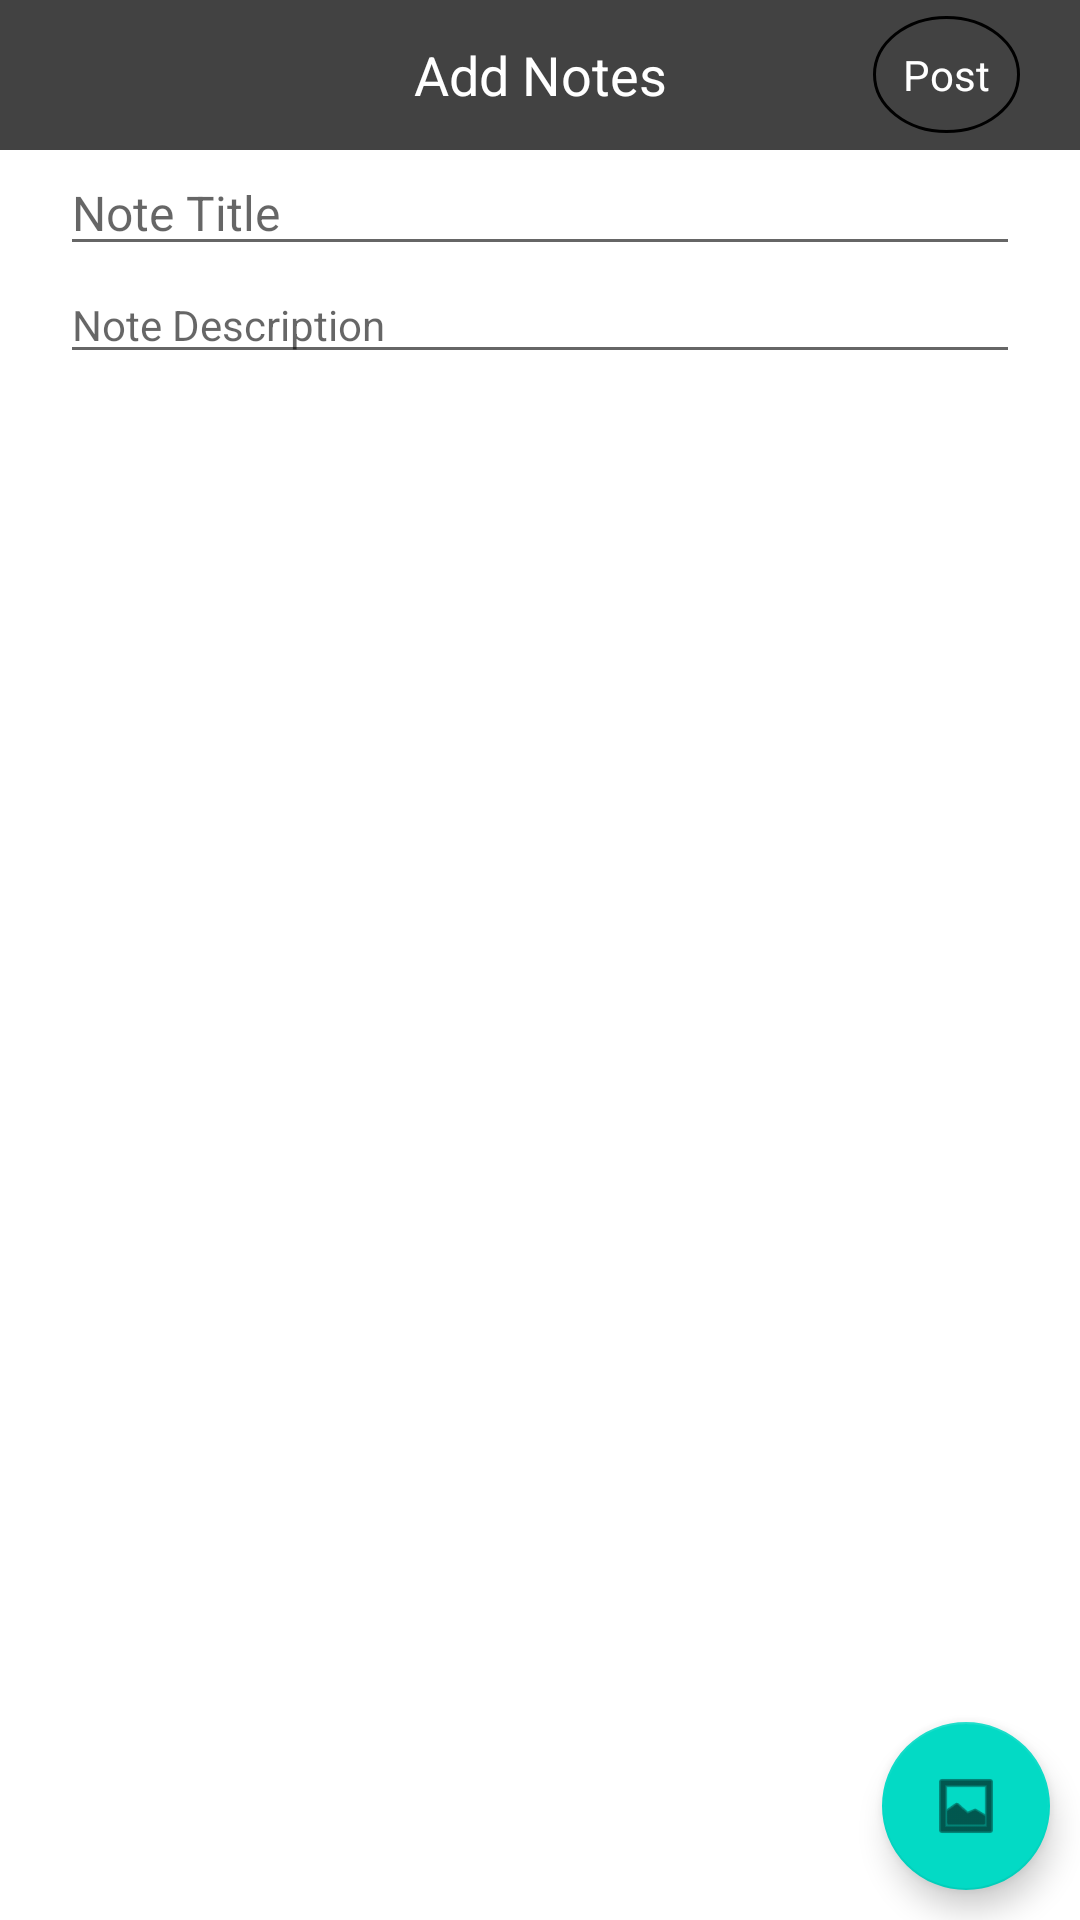

Icons on this 1080x1920 Android screen, each with the point to tap as (x,y):
gallery: (966,1806)
